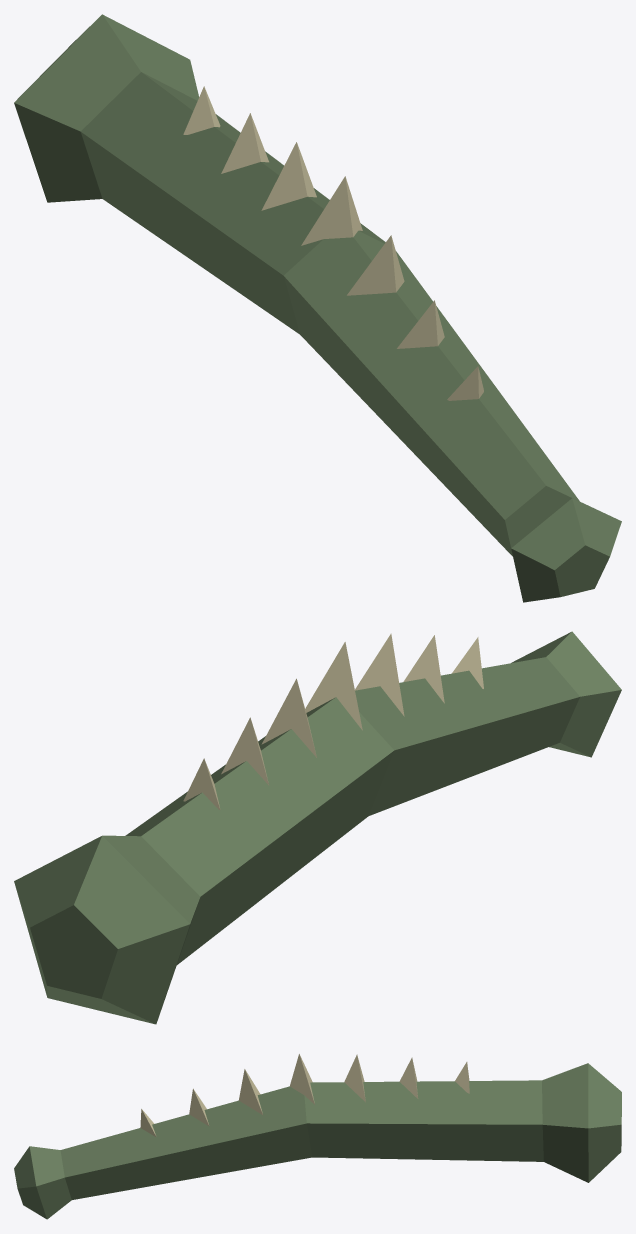
The model's file is LegUpperRB.fbx.
The picture shows the model from 3 angles, top to bottom: view 1: azimuth 30°, elevation 25°; view 2: azimuth 150°, elevation 25°; view 3: azimuth 270°, elevation 25°; orthographic projection. The views are drawn at different scales.
Parts seen in each view (by area): view 1: Arm3; view 2: Arm3; view 3: Arm3.
Boxes of the visible parts, x1,y1,x2,y2 form: Arm3: (14,14,621,602); Arm3: (14,631,621,1024); Arm3: (14,1054,621,1219).
Size of the model in its own units: 0.9082 by 1.3 by 4.57.
